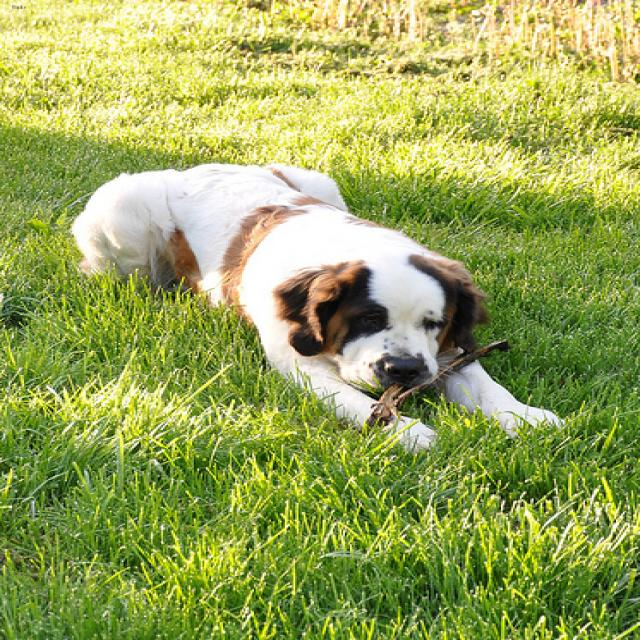dog-saint_bernard: (65, 159, 568, 454)
